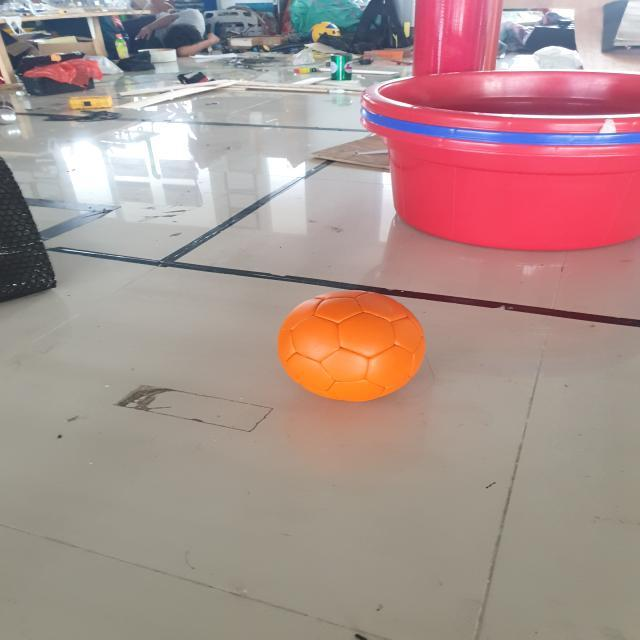bola: (266, 276, 436, 410)
